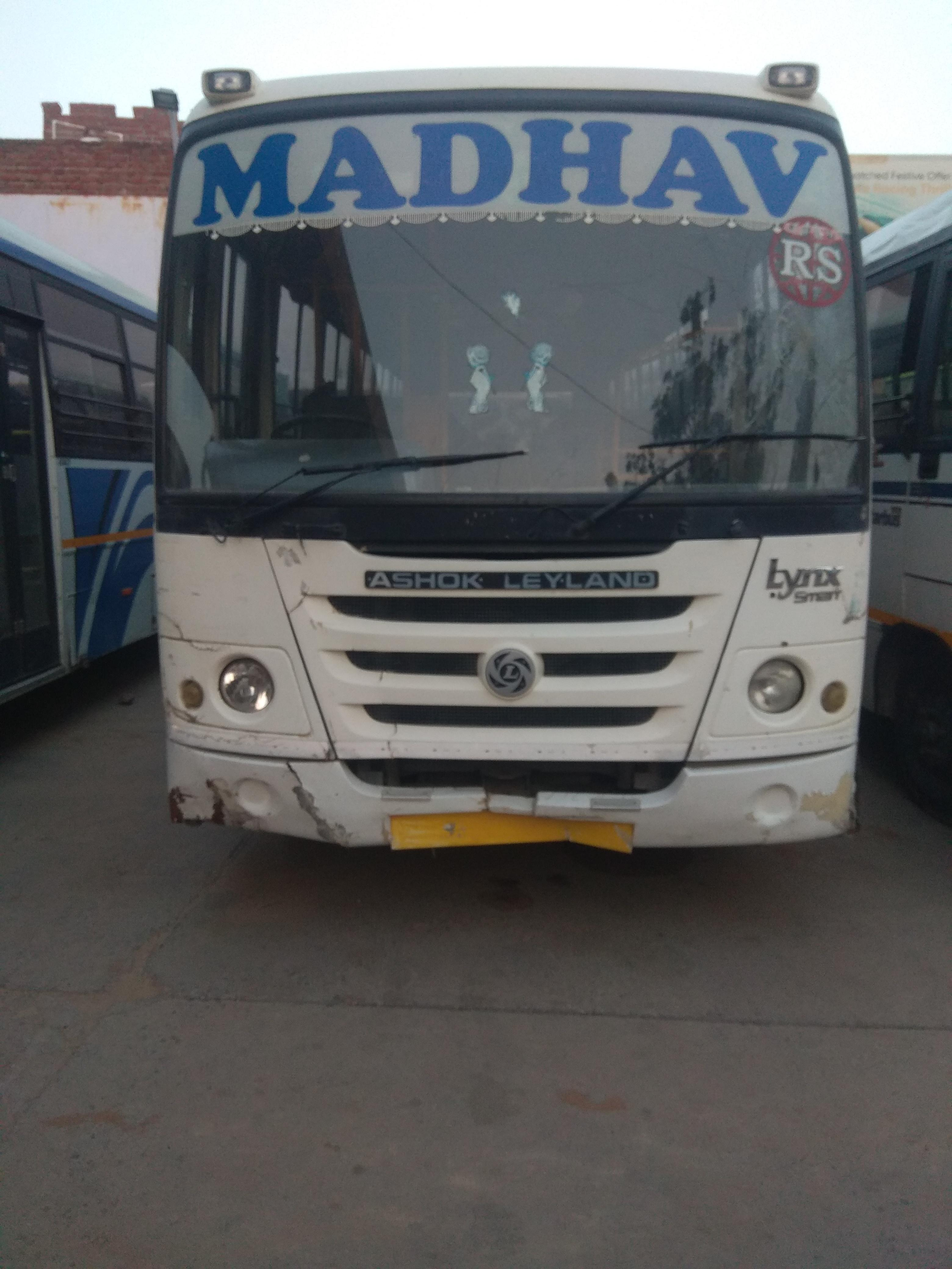non-ambulance: (166, 2, 930, 996)
